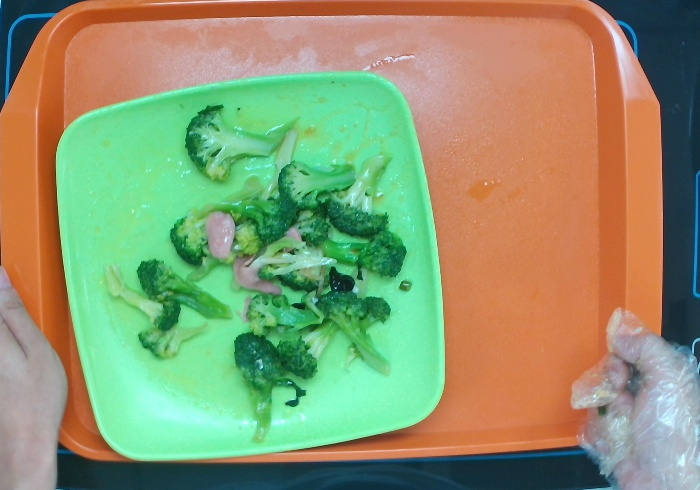ZNLD-Lv_Fang_Pan: (51, 63, 453, 467)
